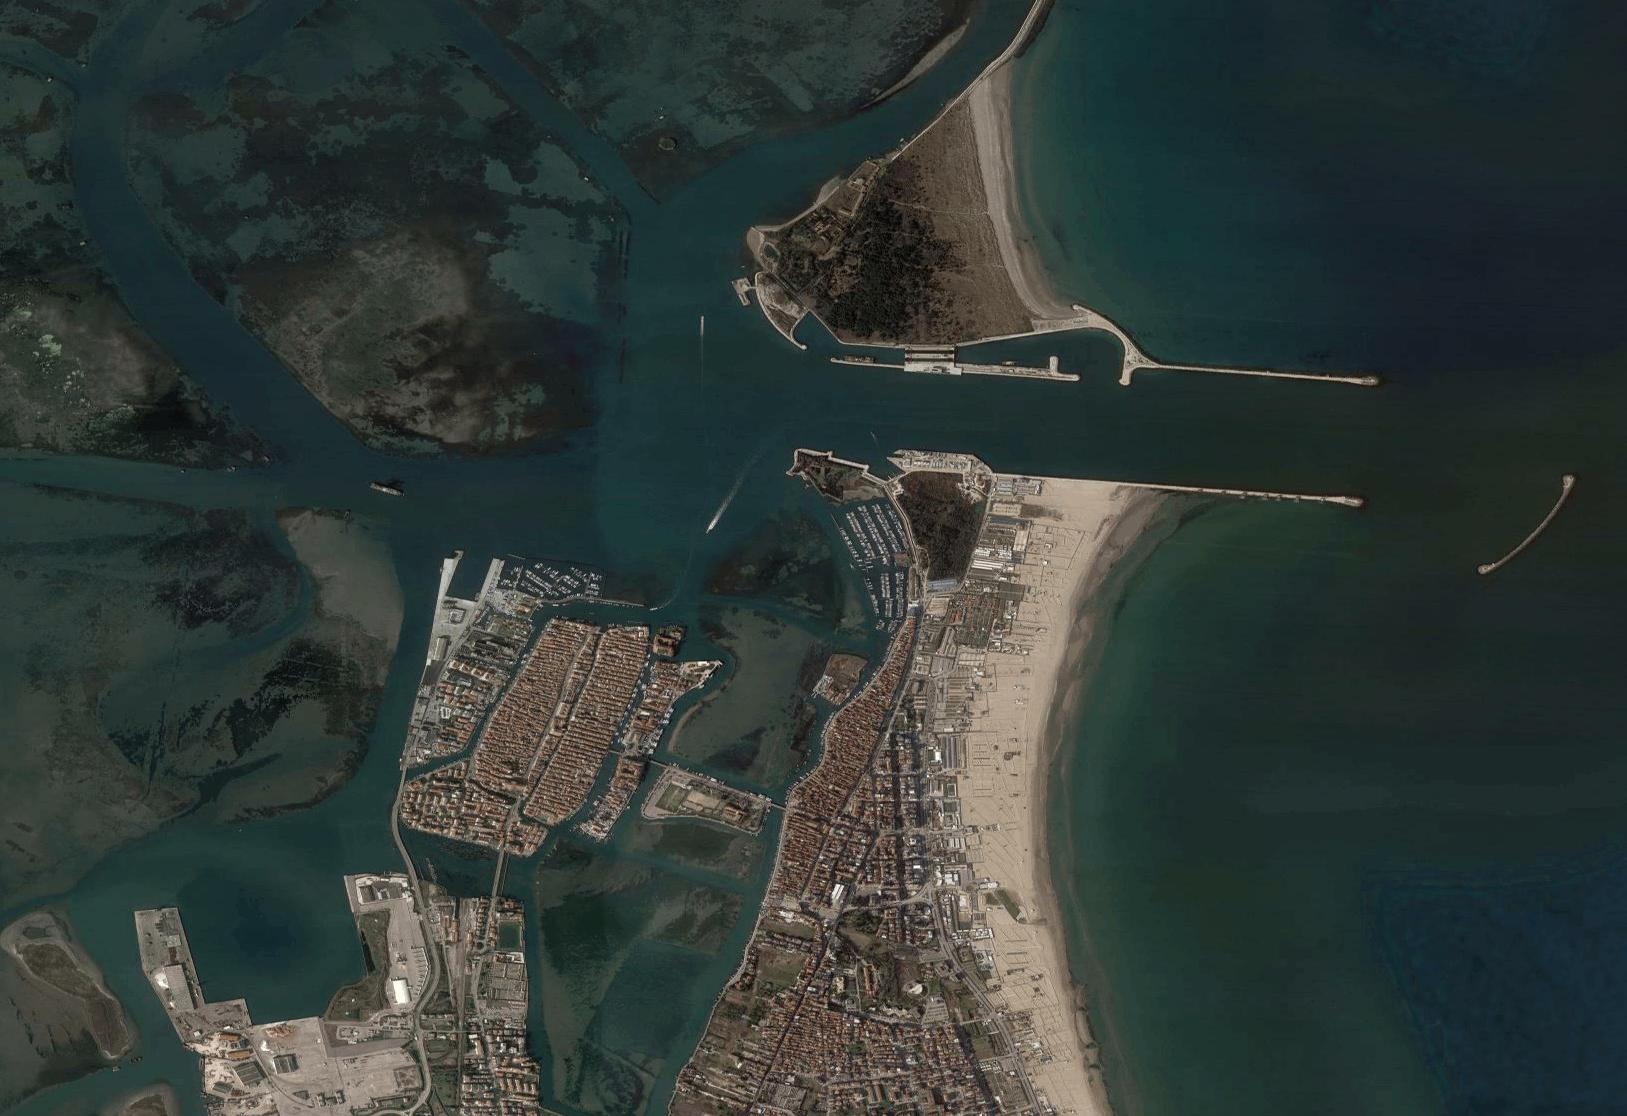bridge: (389, 805, 419, 880), (485, 848, 507, 898), (767, 797, 789, 813), (647, 756, 668, 772)
harbor: (117, 854, 431, 1067), (438, 523, 629, 634), (820, 467, 921, 636)
